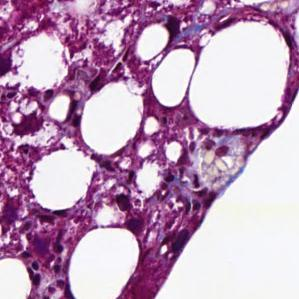inflammation: (116, 193, 156, 235), (160, 12, 188, 52), (21, 251, 46, 291), (163, 225, 194, 257), (69, 91, 84, 133)
